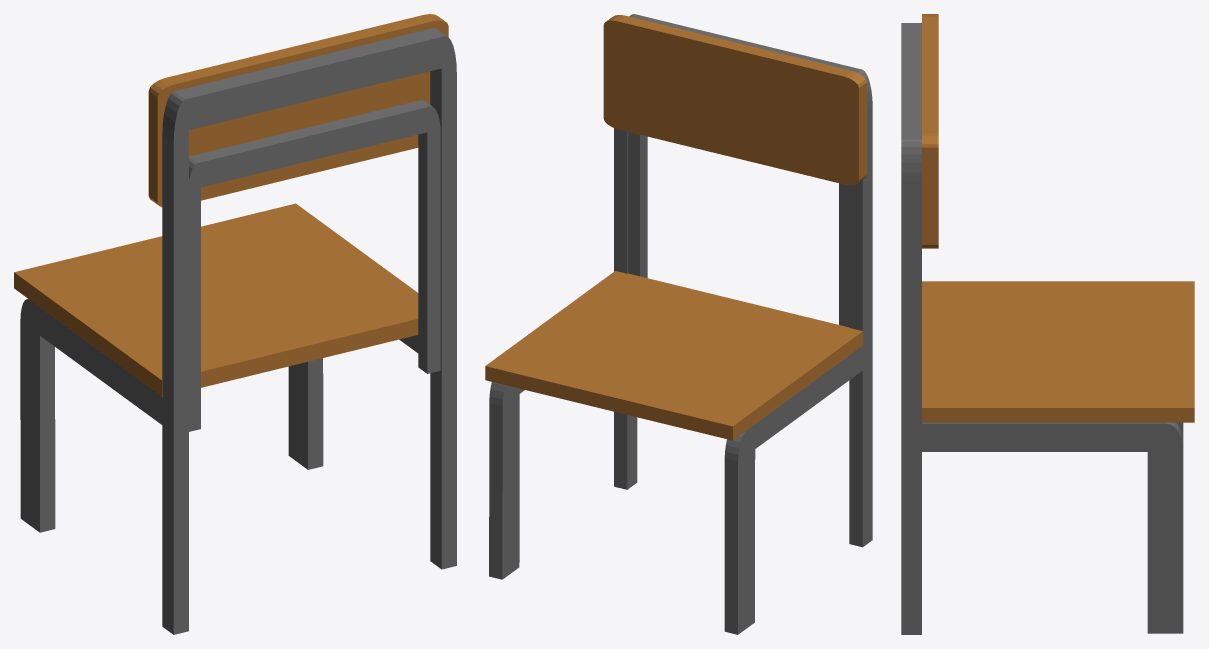
Rendered from chair.fbx.
3 views of the same model, side by side, from view 1: azimuth 30°, elevation 25°; view 2: azimuth 150°, elevation 25°; view 3: azimuth 270°, elevation 25° (orthographic). The views are drawn at different scales.
Visible parts, largest first — view 1: Cube.010; view 2: Cube.010; view 3: Cube.010.
Boxes of the visible parts, x1,y1,x2,y2 form: Cube.010: [14, 14, 456, 634]; Cube.010: [485, 14, 872, 634]; Cube.010: [901, 14, 1194, 634].
Size of the model in its own units: 68.41 by 121 by 64.93.
